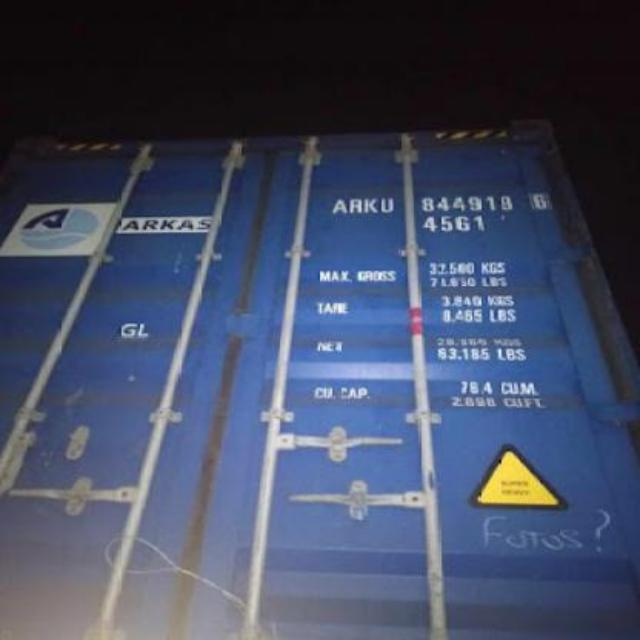1: (486, 193, 498, 214)
4: (438, 195, 450, 211), (454, 196, 464, 212)
6: (528, 192, 546, 210)
8: (421, 198, 434, 212)
9: (468, 194, 482, 216), (498, 196, 514, 212)
A: (332, 198, 346, 214)
K: (364, 197, 380, 213)
R: (348, 197, 364, 215)
U: (381, 196, 394, 214)
